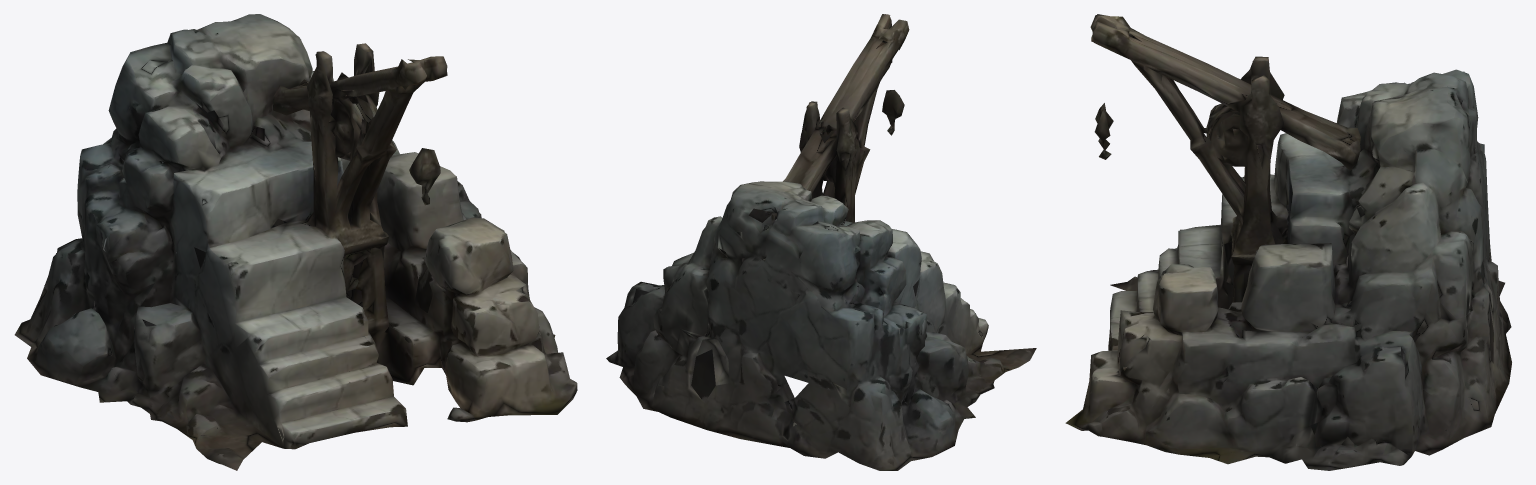
File: quarry.glb
The picture shows the model from 3 angles, left to right: view 1: azimuth 30°, elevation 25°; view 2: azimuth 150°, elevation 25°; view 3: azimuth 270°, elevation 25°; orthographic projection. The views are drawn at different scales.
Parts seen in each view (by area): view 1: geometry_0; view 2: geometry_0; view 3: geometry_0.
Part boxes in pixels (<box>): geometry_0: <box>14,14,577,470</box>; geometry_0: <box>606,14,1036,470</box>; geometry_0: <box>1065,14,1511,470</box>.
Bounding box in the file's own units: 0.9482 × 0.7623 × 0.8811.
1 material, 1 textured.
